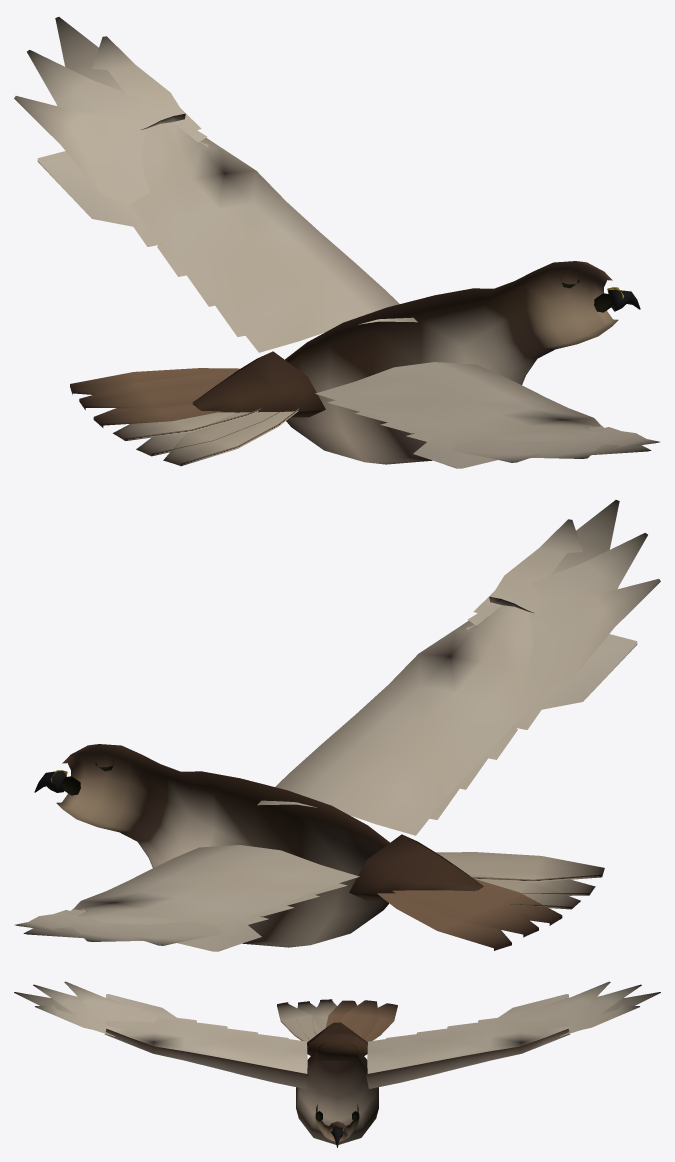
The model's file is SM_Bird_buzzard_glide_LOD1.glb.
3 renders of one model, top to bottom at view 1: azimuth 30°, elevation 25°; view 2: azimuth 150°, elevation 25°; view 3: azimuth 270°, elevation 25°, orthographic. The views are drawn at different scales.
Visible parts, largest first — view 1: SM_Bird_buzzard_glide_LOD1; view 2: SM_Bird_buzzard_glide_LOD1; view 3: SM_Bird_buzzard_glide_LOD1.
Part boxes in pixels (x1=…): SM_Bird_buzzard_glide_LOD1: x1=14, y1=17, x2=659, y2=468; SM_Bird_buzzard_glide_LOD1: x1=15, y1=500, x2=660, y2=951; SM_Bird_buzzard_glide_LOD1: x1=14, y1=981, x2=660, y2=1147.
Size of the model in its own units: 0.5873 by 0.2533 by 1.13.
